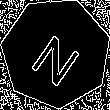N_NE: (25, 21, 86, 85)
